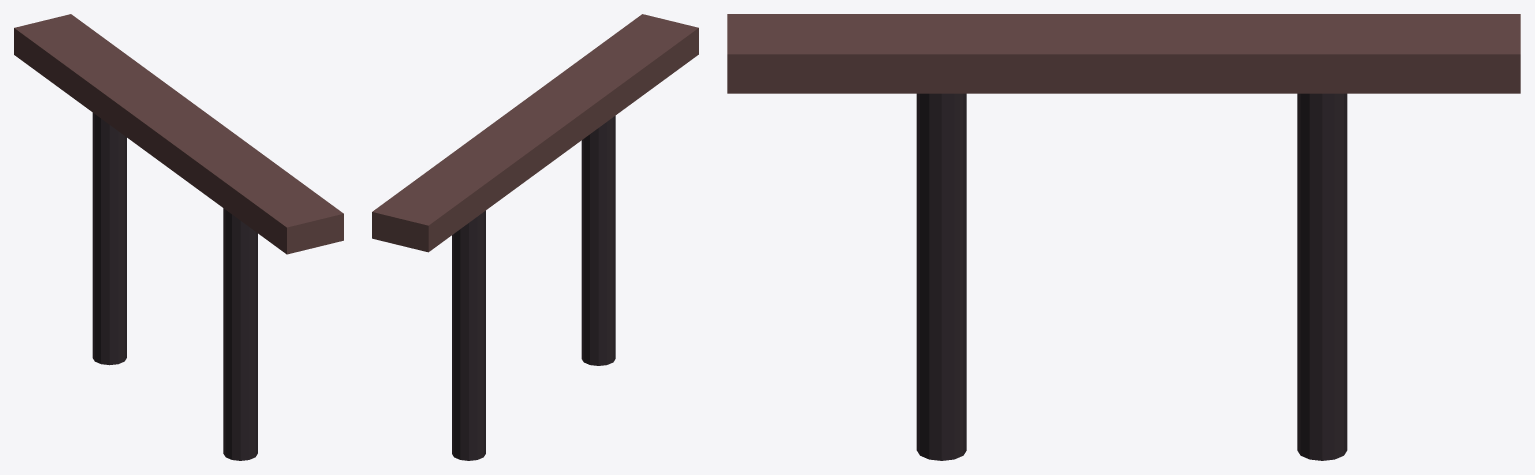
The model's file is mod_fence.fbx.
3 renders of one model, left to right at view 1: azimuth 30°, elevation 25°; view 2: azimuth 150°, elevation 25°; view 3: azimuth 270°, elevation 25°, orthographic. The views are drawn at different scales.
Visible parts, largest first — view 1: mod_fence; view 2: mod_fence; view 3: mod_fence.
Boxes of the visible parts, left/top/right/bottom form: mod_fence: left=14, top=14, right=343, bottom=460; mod_fence: left=372, top=14, right=698, bottom=460; mod_fence: left=727, top=14, right=1520, bottom=460.
Size of the model in its own units: 0.1328 by 0.6384 by 1.1.
Materials: 1 (1 with a texture image).
